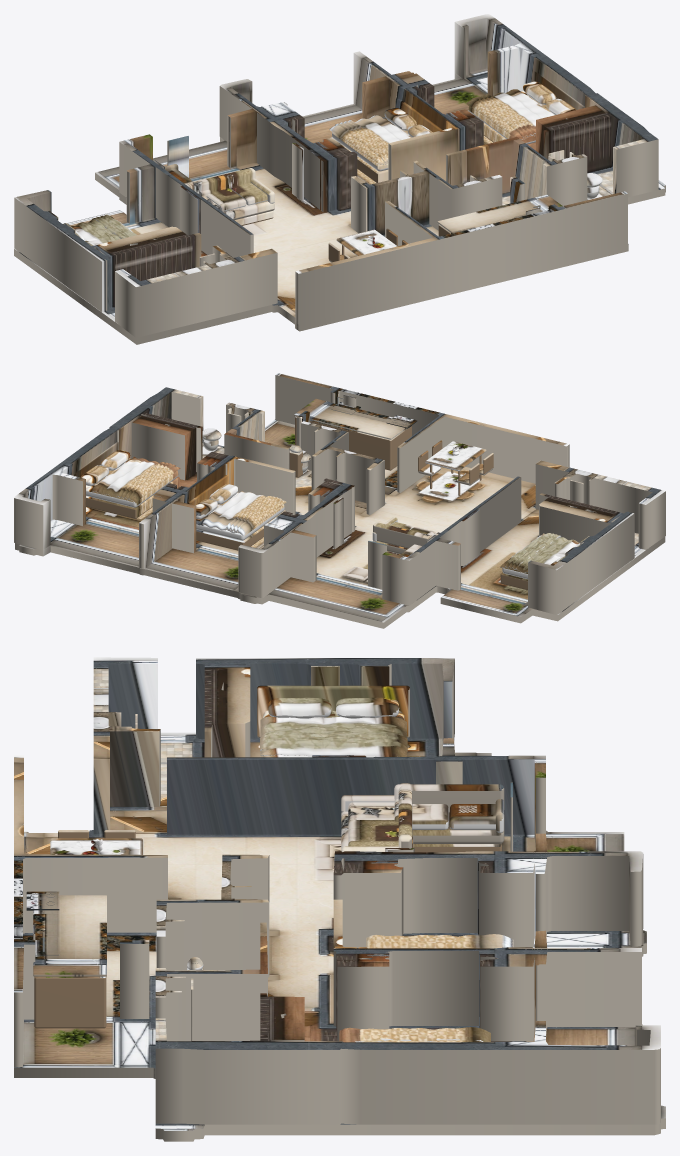
File: p8-08-u04-0110-image-model.glb
3 renders of one model, top to bottom at view 1: azimuth 30°, elevation 25°; view 2: azimuth 150°, elevation 25°; view 3: azimuth 270°, elevation 25°, orthographic. The views are drawn at different scales.
Visible parts, largest first — view 1: Partition walls, Apartment floor, Stone worktop, Draped bed linen, Draped bed linen.002, Sofa back, Marble dining top, Draped bed linen.001, Draped bed linen.004, Draped bed linen.003, Seat cushion.001, Upholstered sofa frame (+2 smaller); view 2: Partition walls, Apartment floor, Stone worktop, Draped bed linen, Kitchen cabinets, Draped bed linen.002, Marble dining top, Draped bed linen.004, Sofa back, Walnut upholstered base, Walnut upholstered base.001, Piped mattress (+6 smaller); view 3: Partition walls, Apartment floor, Stone worktop, Draped bed linen.004, Kitchen cabinets, Upholstered headboard.002, Draped bed linen.001, Sofa back.001, Draped bed linen.005, Draped bed linen.003, Marble dining top, Upholstered sofa frame.001 (+8 smaller).
Part boxes in pixels (left/top/right/bottom): Partition walls: left=14, top=14, right=658, bottom=337; Apartment floor: left=14, top=68, right=665, bottom=344; Stone worktop: left=437, top=194, right=562, bottom=232; Draped bed linen: left=466, top=89, right=554, bottom=139; Draped bed linen.002: left=329, top=115, right=410, bottom=164; Sofa back: left=185, top=168, right=255, bottom=192; Marble dining top: left=336, top=229, right=397, bottom=255; Draped bed linen.001: left=471, top=94, right=535, bottom=138; Draped bed linen.004: left=71, top=216, right=136, bottom=244; Draped bed linen.003: left=334, top=120, right=388, bottom=163; Seat cushion.001: left=206, top=188, right=246, bottom=211; Upholstered sofa frame: left=223, top=201, right=274, bottom=219; Partition walls: left=14, top=373, right=665, bottom=614; Apartment floor: left=15, top=419, right=665, bottom=628; Stone worktop: left=294, top=398, right=406, bottom=439; Draped bed linen: left=89, top=456, right=180, bottom=502; Kitchen cabinets: left=295, top=416, right=411, bottom=470; Draped bed linen.002: left=198, top=491, right=286, bottom=535; Marble dining top: left=425, top=441, right=486, bottom=471; Draped bed linen.004: left=500, top=533, right=579, bottom=572; Sofa back: left=373, top=522, right=432, bottom=548; Walnut upholstered base: left=86, top=476, right=179, bottom=518; Walnut upholstered base.001: left=196, top=510, right=285, bottom=550; Piped mattress: left=86, top=458, right=178, bottom=507; Partition walls: left=14, top=657, right=660, bottom=1124; Apartment floor: left=14, top=732, right=665, bottom=1141; Stone worktop: left=33, top=895, right=106, bottom=976; Draped bed linen.004: left=260, top=716, right=406, bottom=756; Kitchen cabinets: left=34, top=976, right=106, bottom=1028; Upholstered headboard.002: left=257, top=685, right=409, bottom=738; Draped bed linen.001: left=339, top=1027, right=490, bottom=1042; Sofa back.001: left=394, top=784, right=504, bottom=812; Draped bed linen.005: left=260, top=733, right=407, bottom=752; Draped bed linen.003: left=366, top=934, right=513, bottom=948; Marble dining top: left=50, top=838, right=143, bottom=854; Upholstered sofa frame.001: left=412, top=812, right=504, bottom=843.
Size of the model in its own units: 13.02 by 1.3 by 9.
14 materials, 3 textured.
